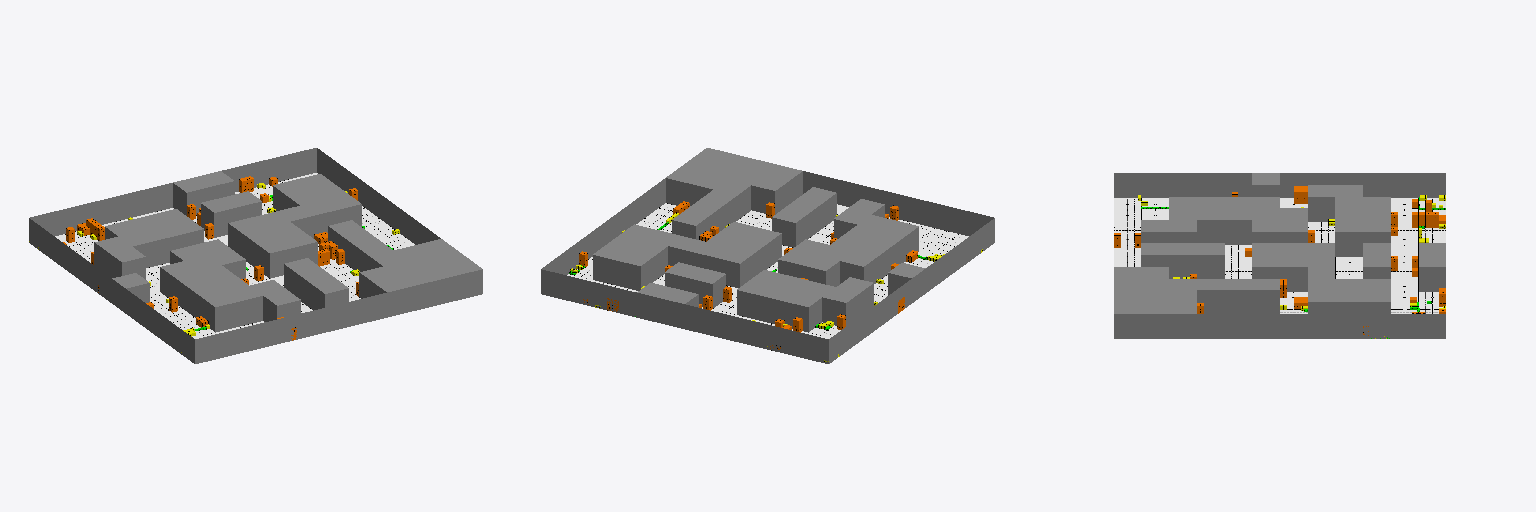
3 views of the same model, side by side, from view 1: azimuth 30°, elevation 25°; view 2: azimuth 150°, elevation 25°; view 3: azimuth 270°, elevation 25° (orthographic).
Parts seen in each view (by area): view 1: dust2; view 2: dust2; view 3: dust2.
Part boxes in pixels (left/top/right/bottom): dust2: left=29, top=148, right=482, bottom=363; dust2: left=541, top=148, right=994, bottom=363; dust2: left=1114, top=173, right=1445, bottom=338.
Bounding box in the file's own units: 96 × 8 × 96.
Materials: 5 (4 with a texture image).